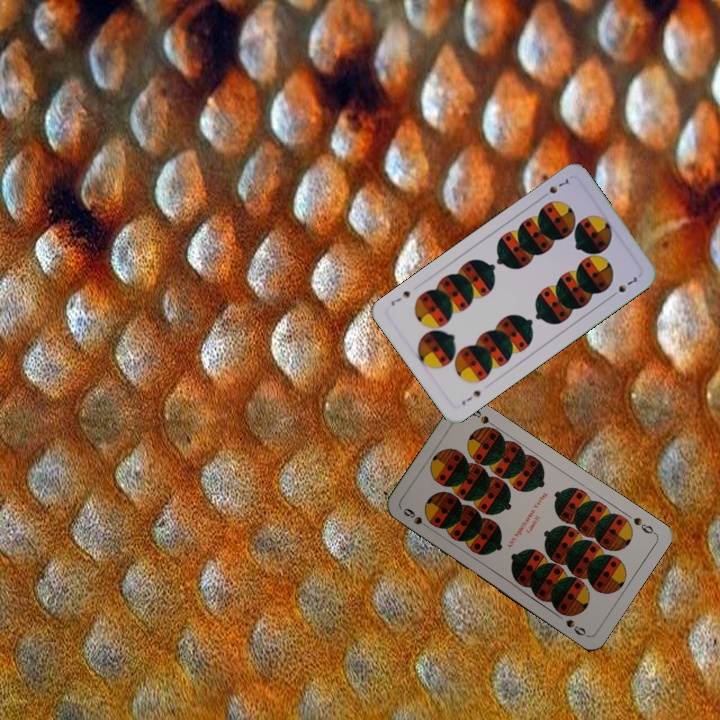S7: (537, 174, 572, 201), (458, 386, 483, 408)
S9: (399, 504, 434, 532), (629, 513, 658, 537)
